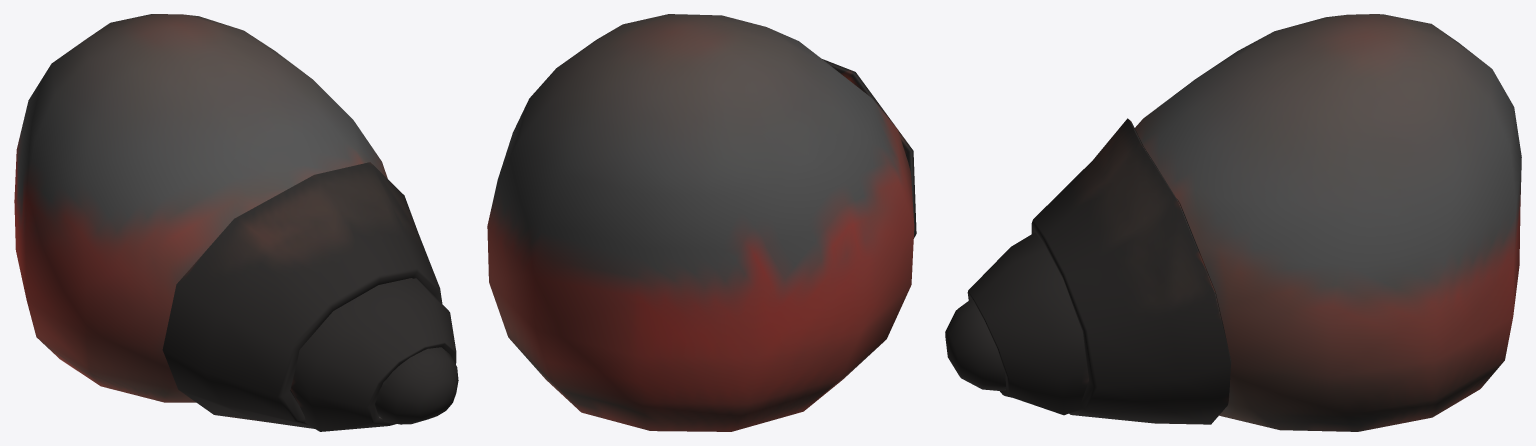
The model's file is foot_left.obj.
3 renders of one model, left to right at view 1: azimuth 30°, elevation 25°; view 2: azimuth 150°, elevation 25°; view 3: azimuth 270°, elevation 25°, orthographic. The views are drawn at different scales.
Parts seen in each view (by area): view 1: foot_main_left foot_left, foot_left foot_part_2_left, foot_left foot_part3_left, foot_left foot_tip_left; view 2: foot_main_left foot_left, foot_left foot_part_2_left; view 3: foot_main_left foot_left, foot_left foot_part_2_left, foot_left foot_part3_left, foot_left foot_tip_left.
Boxes of the visible parts, x1=… form: foot_main_left foot_left: x1=14, y1=14, x2=387, y2=402; foot_left foot_part_2_left: x1=162, y1=162, x2=442, y2=428; foot_left foot_part3_left: x1=290, y1=278, x2=456, y2=431; foot_left foot_tip_left: x1=375, y1=347, x2=458, y2=424; foot_main_left foot_left: x1=487, y1=14, x2=914, y2=431; foot_left foot_part_2_left: x1=822, y1=59, x2=916, y2=238; foot_main_left foot_left: x1=1135, y1=14, x2=1521, y2=431; foot_left foot_part_2_left: x1=1031, y1=118, x2=1231, y2=424; foot_left foot_part3_left: x1=967, y1=232, x2=1088, y2=415; foot_left foot_tip_left: x1=945, y1=298, x2=1005, y2=390.
Size of the model in its own units: 0.2763 by 0.2543 by 0.3837.
1 material, 1 textured.
